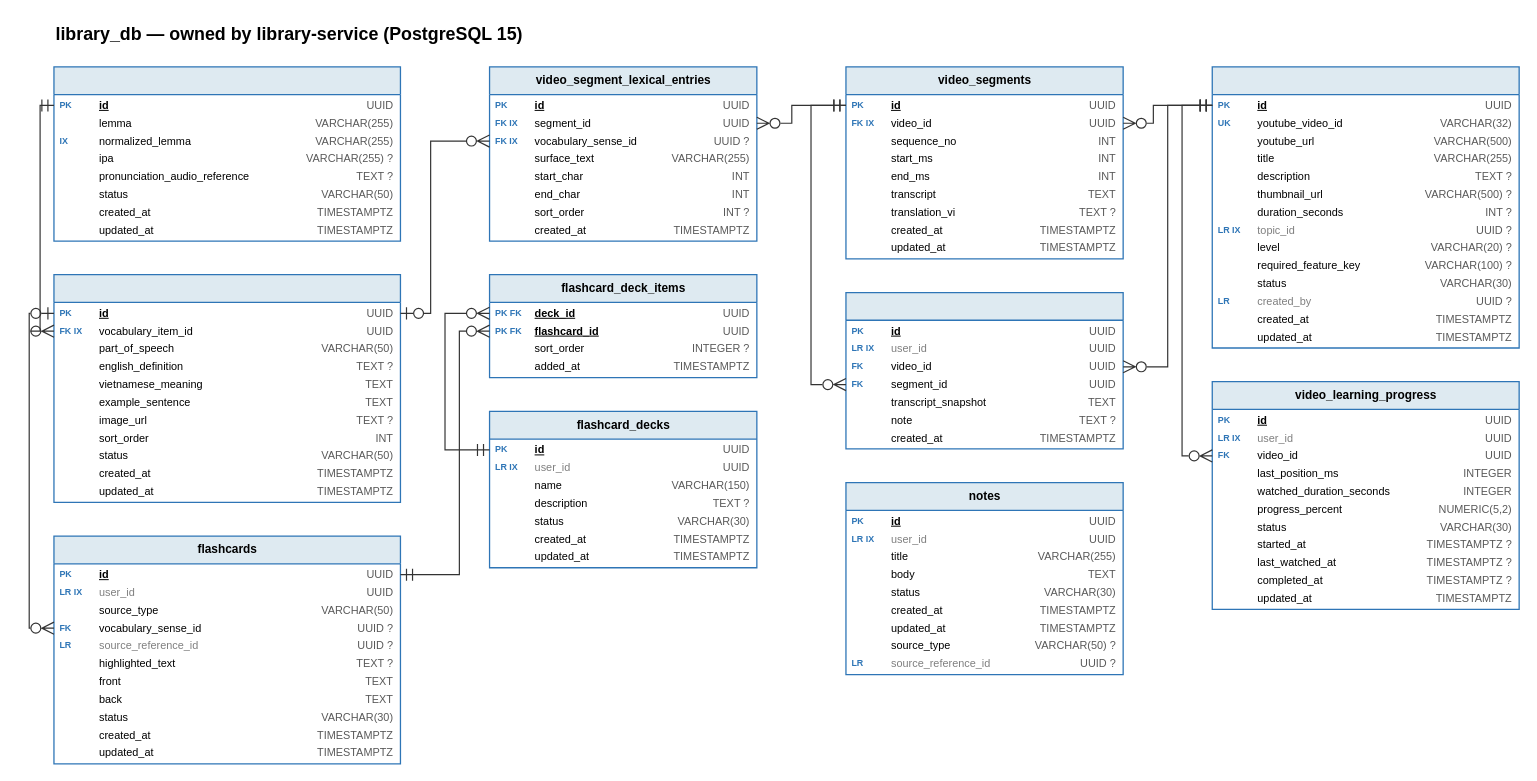
Image size: 1537x781. Some labels were removed from this diagram. Here are the shapes that lost their labels. From the top down, the box of each, then its label:
(53, 66, 401, 241): vocabulary_items
(1211, 66, 1519, 348): learning_videos
(53, 274, 401, 503): vocabulary_senses
(845, 291, 1123, 449): saved_video_segments
